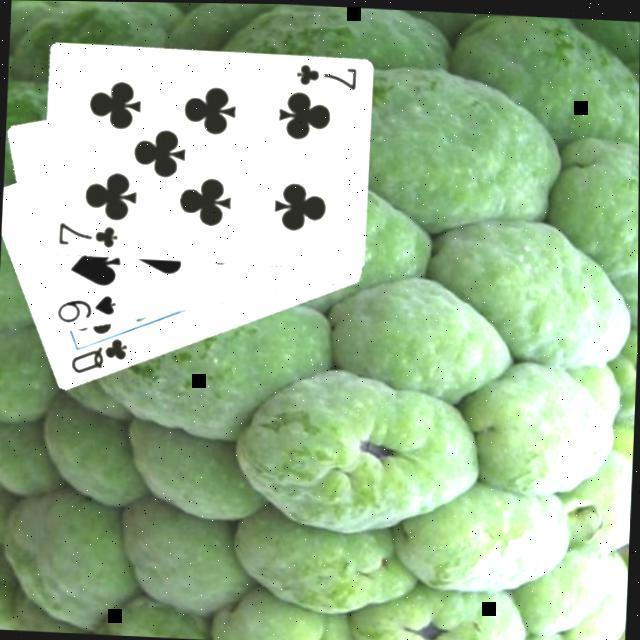7C: (294, 58, 361, 90), (56, 216, 122, 248)
9S: (55, 288, 122, 326)
QC: (69, 330, 132, 378)
